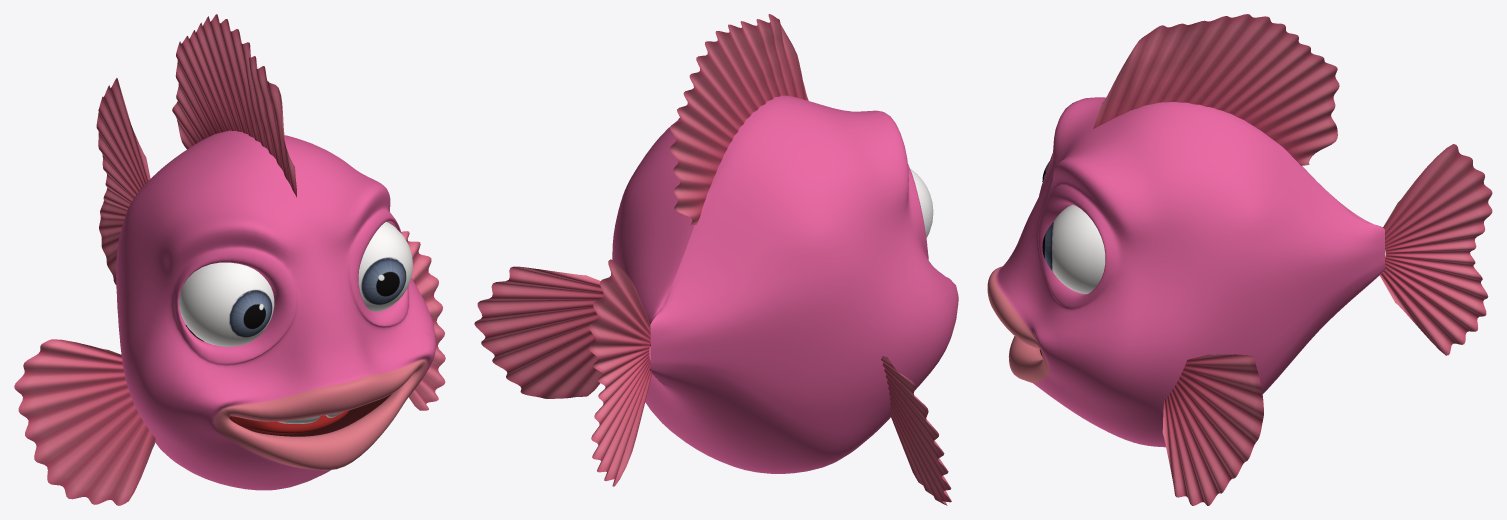
Rendered from fish.glb.
The picture shows the model from 3 angles, left to right: view 1: azimuth 30°, elevation 25°; view 2: azimuth 150°, elevation 25°; view 3: azimuth 270°, elevation 25°; orthographic projection. The views are drawn at different scales.
Parts seen in each view (by area): view 1: Head, Fin_Pectoral.R, Fin_Dorsal, Eye.R, Fin_Tail, Eye.L, Fin_Pectoral.L; view 2: Head, Fin_Dorsal, Fin_Pectoral.L, Fin_Tail, Fin_Pectoral.R, Eye.R; view 3: Head, Fin_Dorsal, Fin_Tail, Fin_Pectoral.L, Eye.L.
Boxes of the visible parts, <box> form: Head: <box>116,130,436,490</box>; Fin_Pectoral.R: <box>14,339,155,505</box>; Fin_Dorsal: <box>172,14,296,197</box>; Eye.R: <box>179,262,274,346</box>; Fin_Tail: <box>96,78,150,284</box>; Eye.L: <box>358,221,412,311</box>; Fin_Pectoral.L: <box>401,231,445,410</box>; Head: <box>612,95,958,473</box>; Fin_Dorsal: <box>669,14,808,225</box>; Fin_Pectoral.L: <box>474,266,603,398</box>; Fin_Tail: <box>589,259,652,486</box>; Fin_Pectoral.R: <box>881,356,951,505</box>; Eye.R: <box>910,168,933,237</box>; Head: <box>987,97,1384,447</box>; Fin_Dorsal: <box>1093,14,1339,165</box>; Fin_Tail: <box>1379,144,1492,355</box>; Fin_Pectoral.L: <box>1162,354,1263,505</box>; Eye.L: <box>1042,204,1105,293</box>.
Bounding box in the file's own units: 2.15 × 2.06 × 2.21.
7 materials, 2 textured.
